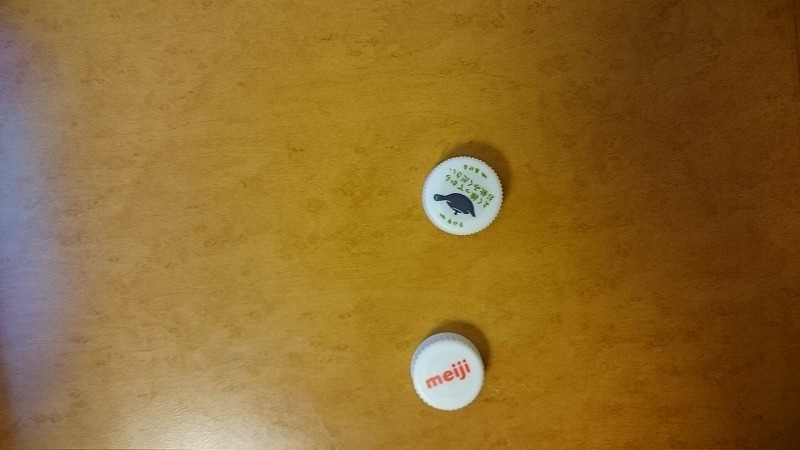A: (415, 151, 510, 245)
B: (404, 328, 490, 412)
